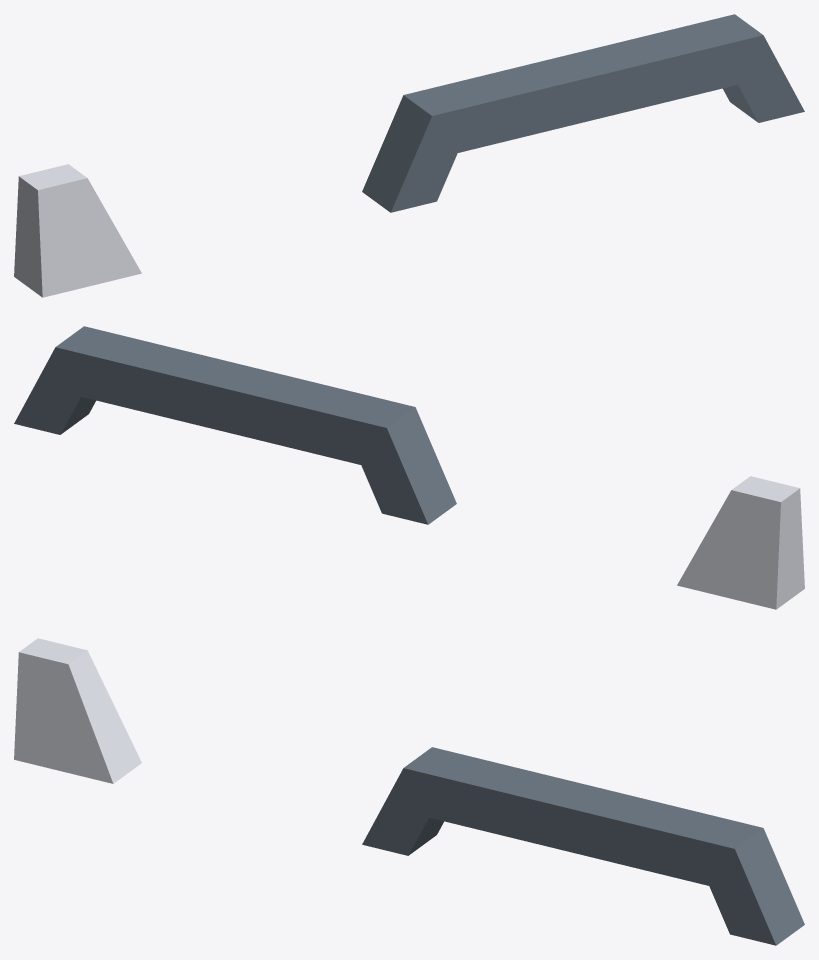
Rendered from Sight_B.fbx.
The picture shows the model from 3 angles, top to bottom: view 1: azimuth 30°, elevation 25°; view 2: azimuth 150°, elevation 25°; view 3: azimuth 330°, elevation 25°; orthographic projection.
Parts seen in each view (by area): view 1: polySurface108; view 2: polySurface108; view 3: polySurface108.
Boxes of the visible parts, <box> form: polySurface108: <box>14,14,804,297</box>; polySurface108: <box>14,326,804,609</box>; polySurface108: <box>14,638,804,945</box>.
Size of the model in its own units: 46 by 6 by 3.
